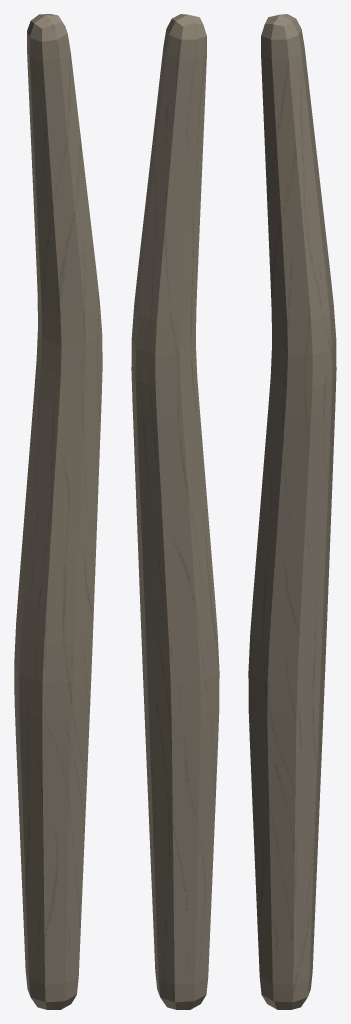
File: Palo1.fbx
3 renders of one model, left to right at view 1: azimuth 30°, elevation 25°; view 2: azimuth 210°, elevation 25°; view 3: azimuth 330°, elevation 25°, orthographic.
Parts seen in each view (by area): view 1: Vert.036; view 2: Vert.036; view 3: Vert.036.
Boxes of the visible parts, left/top/right/bottom form: Vert.036: left=14, top=14, right=102, bottom=1009; Vert.036: left=131, top=14, right=219, bottom=1009; Vert.036: left=248, top=14, right=336, bottom=1009.
Size of the model in its own units: 41.54 by 499 by 35.36.
